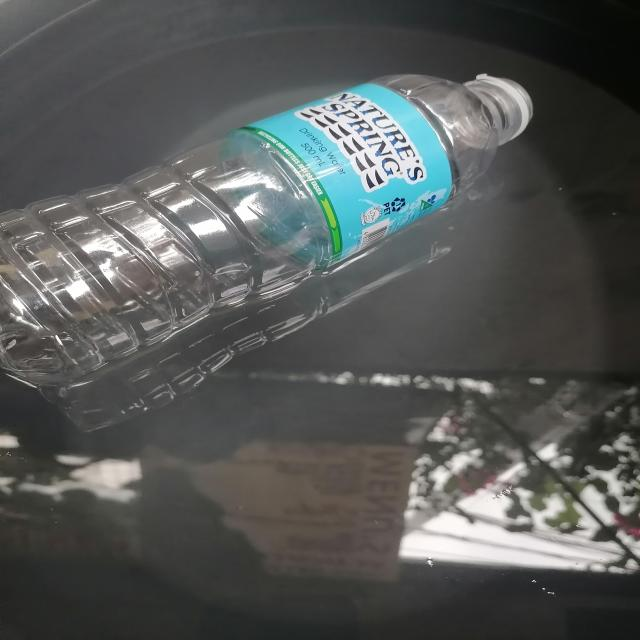Plastic Bottle: (0, 74, 533, 394)
